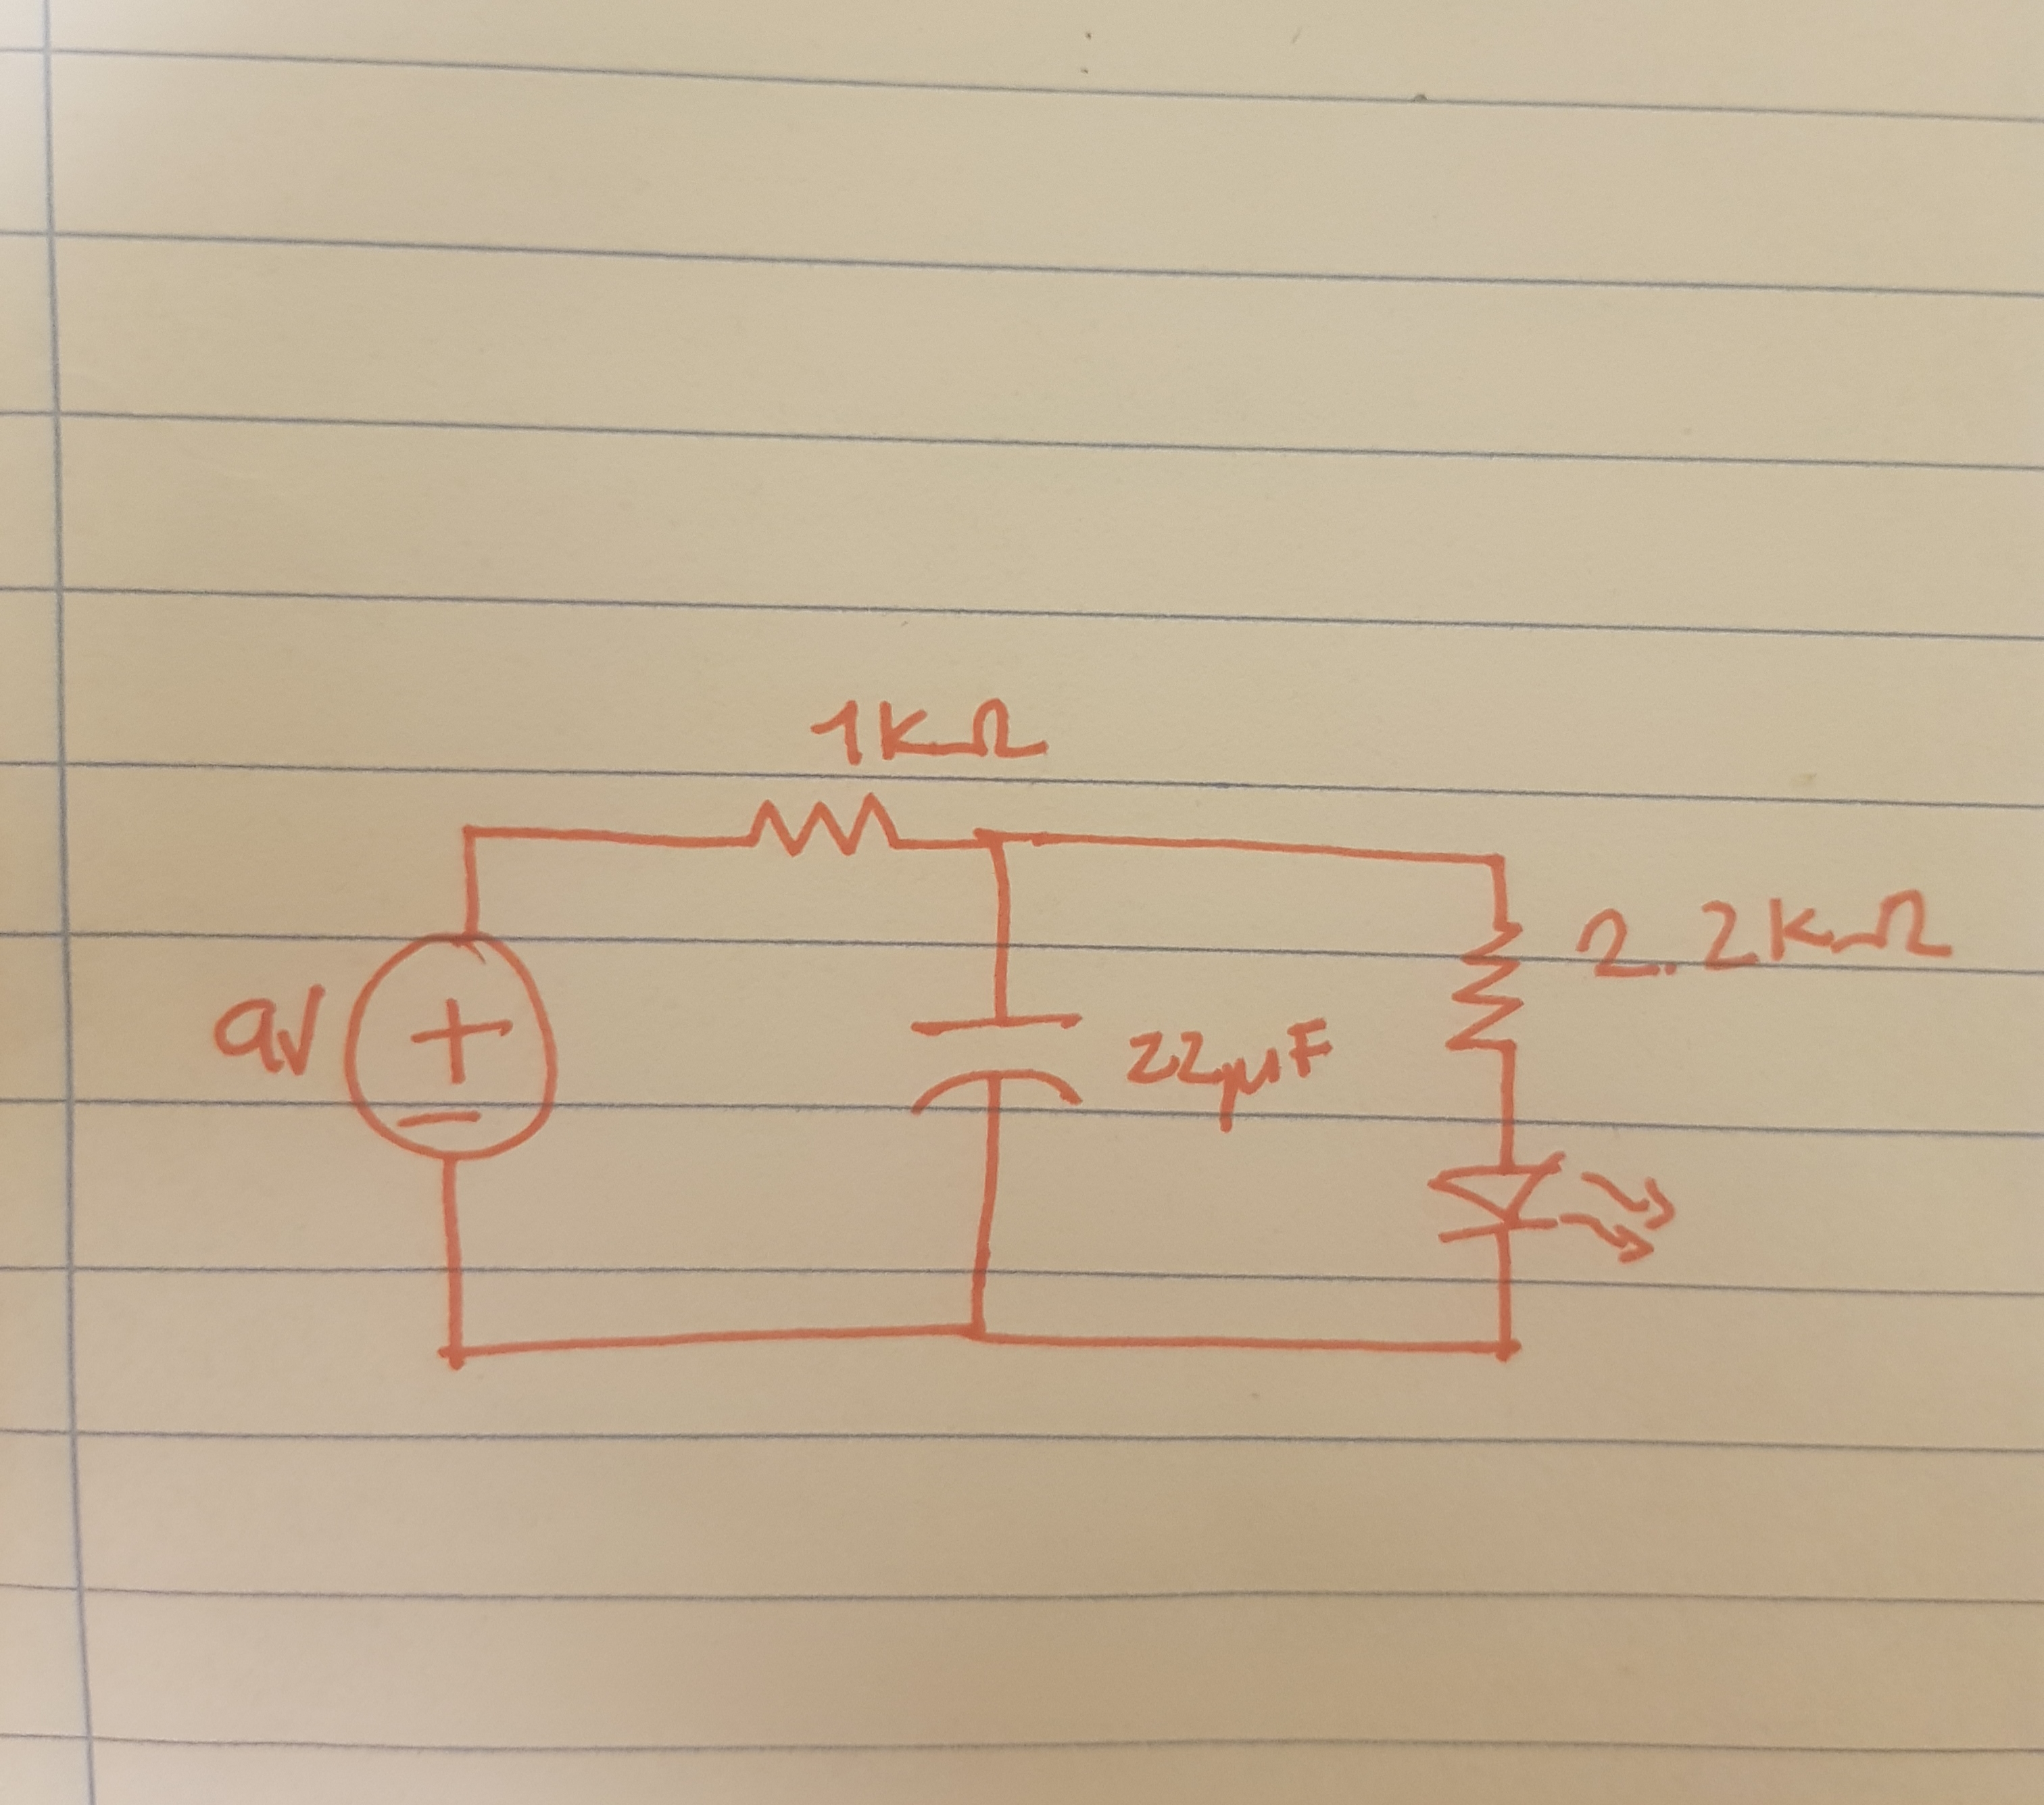capacitor.unpolarized: (903, 993, 1098, 1124)
diode.light_emitting: (1418, 1145, 1683, 1263)
junction: (1472, 1317, 1542, 1376), (1464, 833, 1535, 887), (946, 1300, 1011, 1357), (967, 822, 1035, 873), (430, 1331, 491, 1387), (444, 810, 504, 864)
resistor: (749, 784, 901, 873), (1438, 929, 1540, 1054)
text: (1570, 880, 1971, 993), (1107, 1011, 1340, 1139), (805, 678, 1052, 779), (199, 983, 331, 1103)
voltage.dc: (338, 923, 575, 1171)
